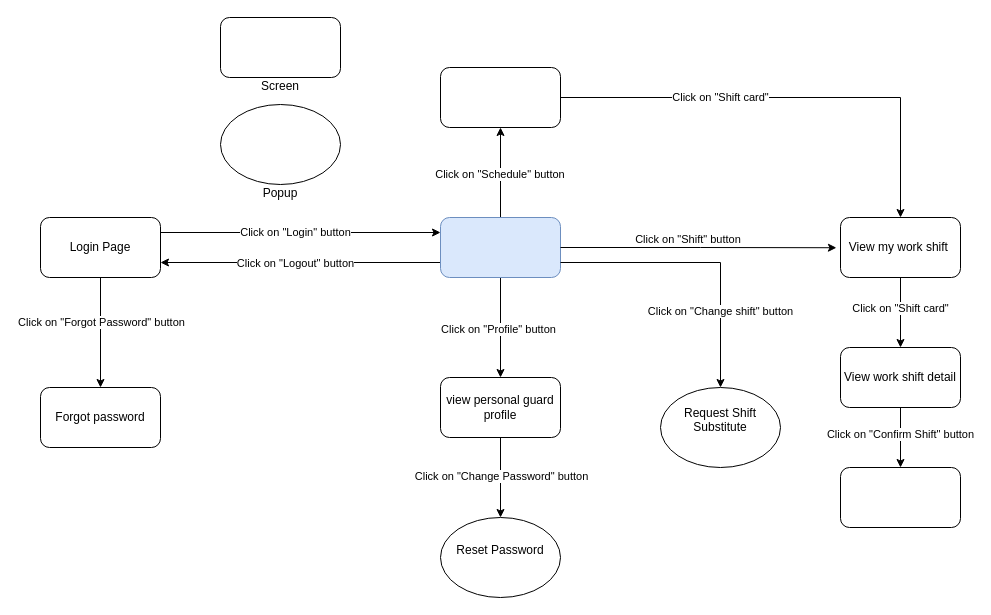
The diagram is 991 pixels wide and 615 high, and some of its shapes have lost their labels. The shapes that lost their labels are listed below. From the top down, each one's centre as x and y in pixels, then its label:
point (500, 97): View shift schedule
point (500, 247): Home
point (900, 497): Check-in work shift
